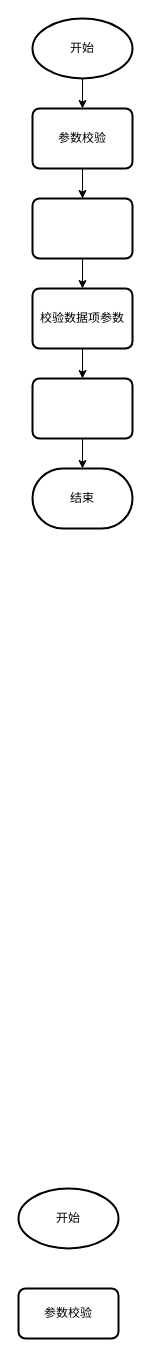
The diagram is 150 pixels wide and 1356 high, and some of its shapes have lost their labels. The shapes that lost their labels are listed below. From the top down, each one's centre as x and y in pixels, then its label:
At pixel 82 228: "表单名称重复性校验".
At pixel 82 408: "批量提交模板 基本信息与数据项信息".
